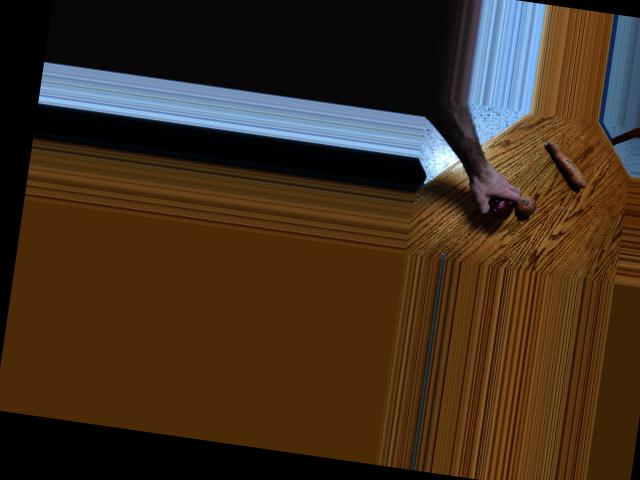onion: (512, 192, 538, 217)
